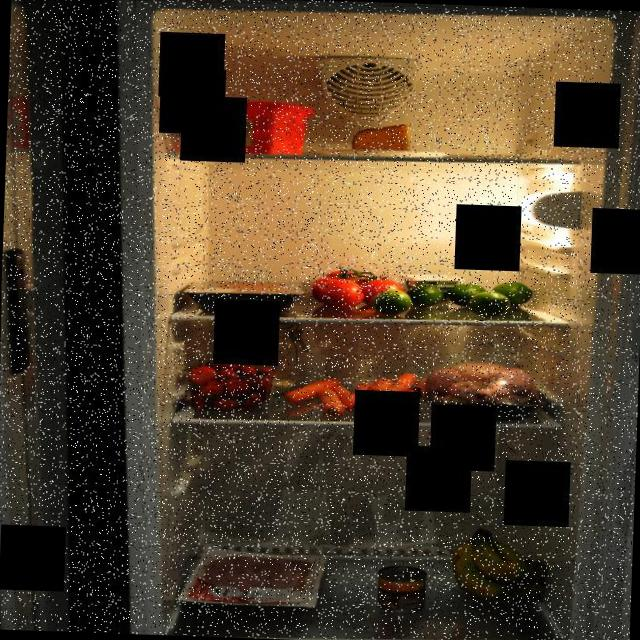Carne cerdo: (190, 548, 316, 608)
Carne pollo: (419, 353, 548, 424)
Carne vacuno: (176, 274, 304, 316)
Mantequilla: (186, 95, 316, 158)
Plátano: (446, 522, 556, 604)
Queso: (346, 120, 416, 158)
Tomate: (302, 259, 410, 312)
Zanahoria: (278, 367, 424, 420)
